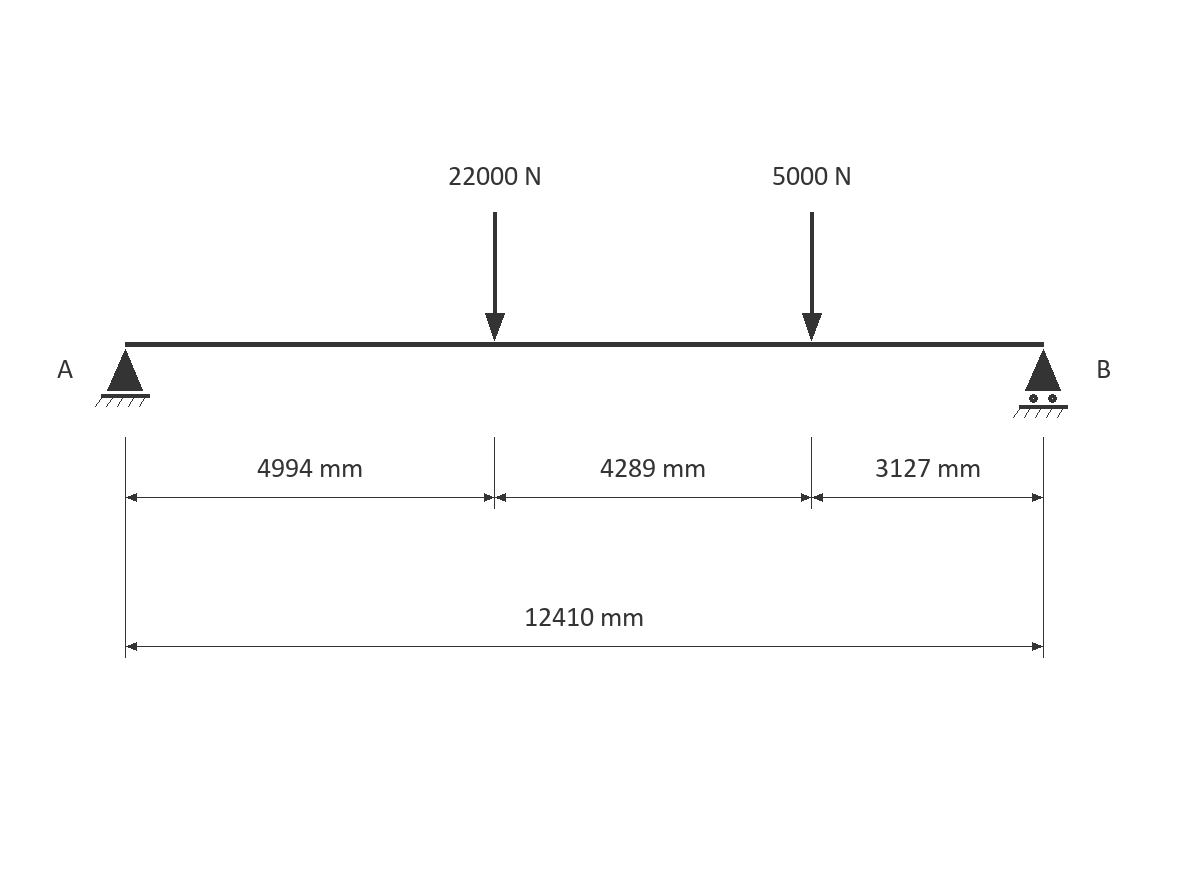pin_support: (95, 349, 150, 407)
point_load: (485, 212, 505, 341), (802, 212, 822, 341)
roller_support: (1013, 349, 1068, 418)
